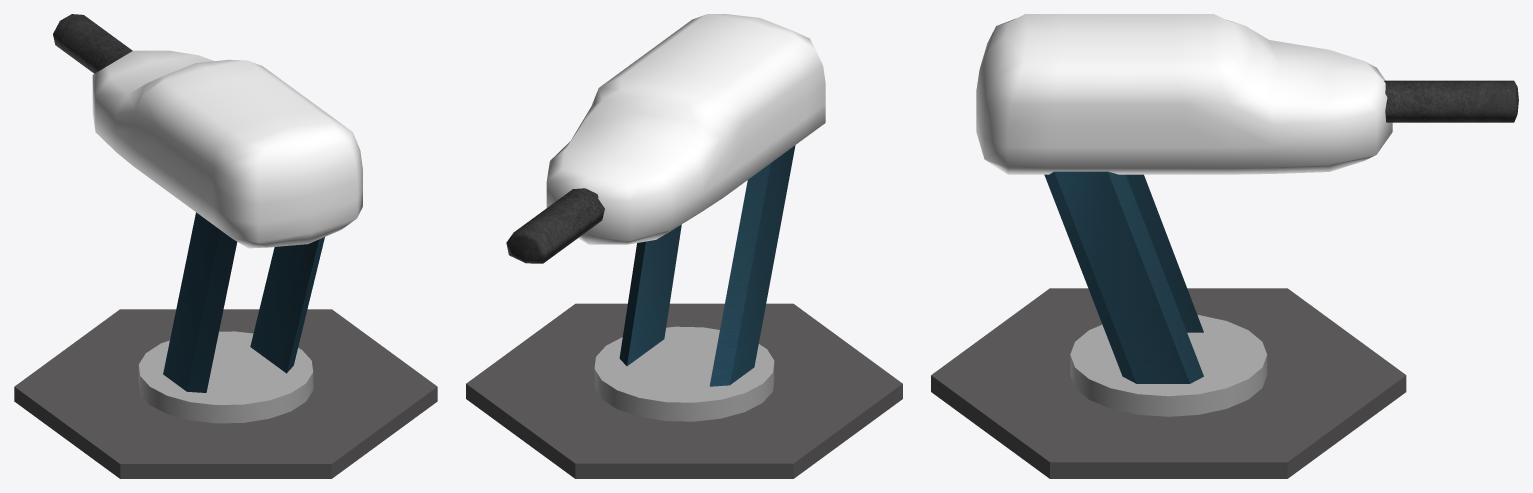
File: basic01.fbx
3 views of the same model, side by side, from view 1: azimuth 30°, elevation 25°; view 2: azimuth 150°, elevation 25°; view 3: azimuth 270°, elevation 25° (orthographic). The views are drawn at different scales.
Visible parts, largest first — view 1: polySurface564, pCylinder32; view 2: polySurface564, pCylinder32; view 3: polySurface564, pCylinder32.
Boxes of the visible parts, x1,y1,x2,y2 form: polySurface564: [53, 14, 362, 423]; pCylinder32: [14, 309, 437, 478]; polySurface564: [506, 14, 825, 421]; pCylinder32: [466, 303, 902, 478]; polySurface564: [976, 14, 1518, 416]; pCylinder32: [931, 288, 1406, 478].
Size of the model in its own units: 11.83 by 11.4 by 16.89.
